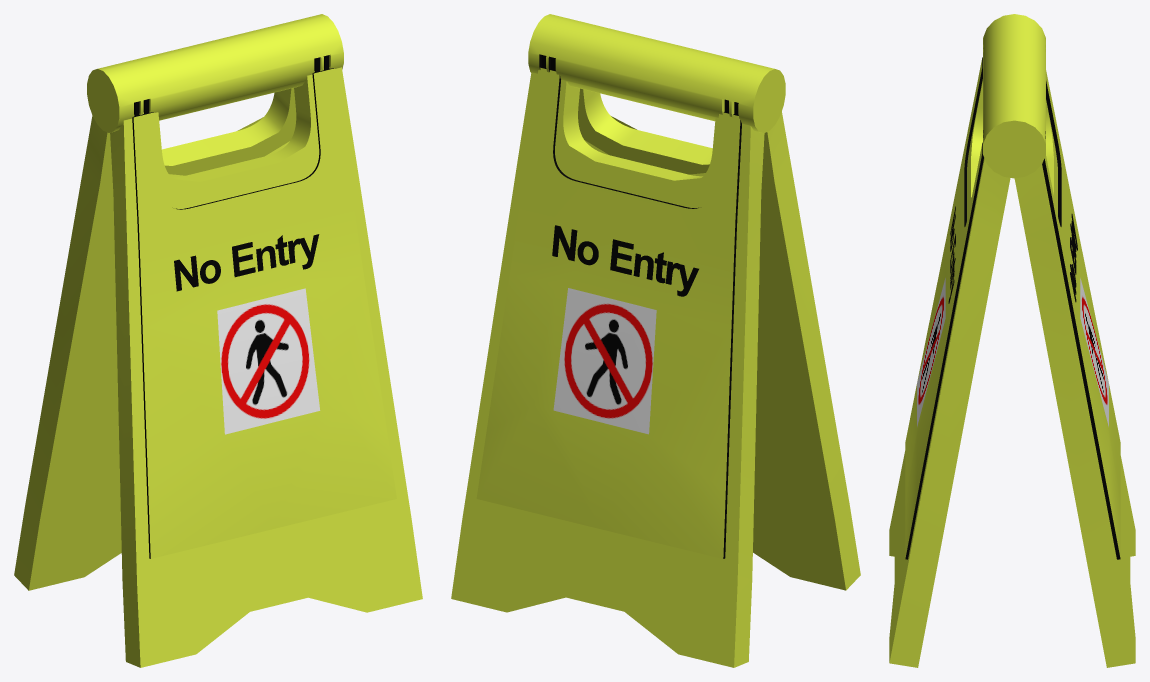
The model's file is 告示牌.fbx.
3 renders of one model, left to right at view 1: azimuth 30°, elevation 25°; view 2: azimuth 150°, elevation 25°; view 3: azimuth 270°, elevation 25°, orthographic. The views are drawn at different scales.
Parts seen in each view (by area): view 1: Box012, Box011, Box023, Cylinder003, Text002; view 2: Box024, Box023, Box011, Cylinder003, Text003; view 3: Box011, Box023, Cylinder003, Box024, Box012, Text003.
Part boxes in pixels (left/top/right/bottom): Box012: left=132, top=68, right=396, bottom=558; Box011: left=110, top=67, right=422, bottom=667; Box023: left=14, top=88, right=296, bottom=590; Cylinder003: left=87, top=14, right=343, bottom=132; Text002: left=174, top=234, right=319, bottom=291; Box024: left=476, top=67, right=741, bottom=558; Box023: left=451, top=72, right=764, bottom=667; Box011: left=578, top=88, right=860, bottom=590; Cylinder003: left=528, top=14, right=785, bottom=133; Text003: left=552, top=225, right=698, bottom=296; Box011: left=889, top=79, right=1010, bottom=667; Box023: left=1014, top=100, right=1135, bottom=667; Cylinder003: left=983, top=14, right=1045, bottom=178; Box024: left=1042, top=70, right=1120, bottom=559; Box012: left=905, top=57, right=983, bottom=559; Text003: left=1070, top=214, right=1077, bottom=302.
Size of the model in its own units: 12.87 by 23.87 by 9.99.
Materials: 3 (1 with a texture image).
